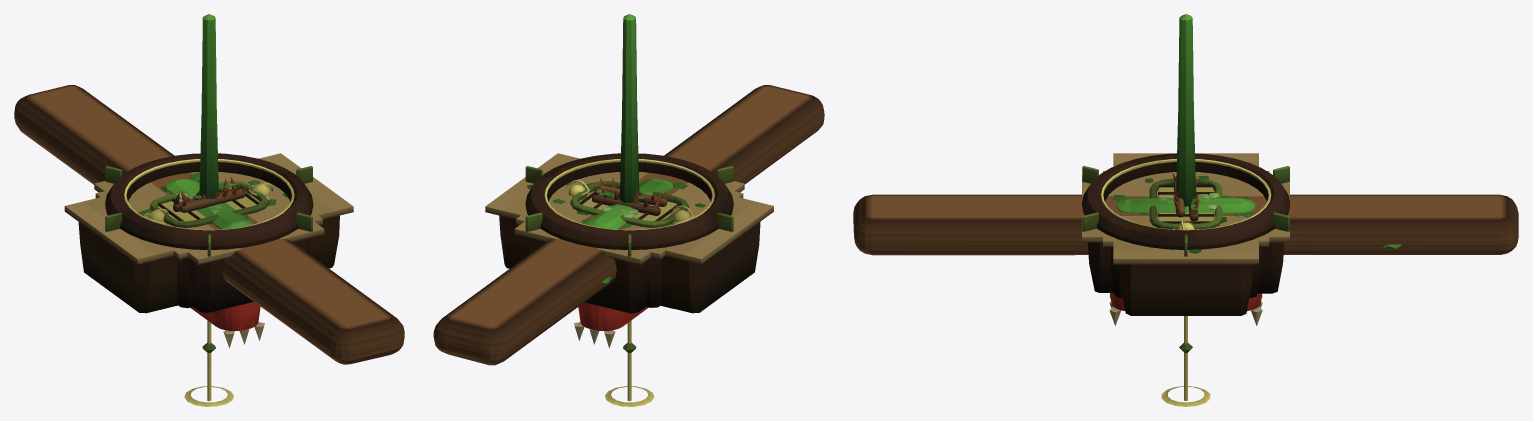
The model's file is swamp-2-DP0inCK9.glb.
3 views of the same model, side by side, from view 1: azimuth 30°, elevation 25°; view 2: azimuth 150°, elevation 25°; view 3: azimuth 270°, elevation 25° (orthographic).
Parts seen in each view (by area): view 1: beam_4x2x32#0, geyserVent_8#0, block_12x2x7#0, press_2.5x6x7.5#0, block_7x2x10#0, jetVent_5x3#0, block_8x2x8#0, burner_3.8x1.2x2#0, block_10x2x7#0, support_0_round#0, balls_7.2x1.4#0; view 2: beam_4x2x32#0, geyserVent_8#0, block_12x2x7#0, press_2.5x6x7.5#0, block_7x2x10#0, jetVent_5x3#0, block_10x2x7#0, burner_3.8x1.2x2#0, block_8x2x8#0, support_0_round#0, balls_7.2x1.4#0; view 3: beam_4x2x32#0, geyserVent_8#0, block_12x2x7#0, press_2.5x6x7.5#0, block_7x2x10#0, jetVent_5x3#0, block_8x2x8#0, support_0_round#0, block_10x2x7#0.
Boxes of the visible parts, <box> form: beam_4x2x32#0: <box>14,85,404,364</box>; geyserVent_8#0: <box>105,153,313,256</box>; block_12x2x7#0: <box>64,153,353,313</box>; press_2.5x6x7.5#0: <box>165,14,264,348</box>; block_7x2x10#0: <box>94,153,324,312</box>; jetVent_5x3#0: <box>150,181,268,227</box>; block_8x2x8#0: <box>95,172,322,308</box>; burner_3.8x1.2x2#0: <box>173,176,247,212</box>; block_10x2x7#0: <box>83,157,335,260</box>; support_0_round#0: <box>184,320,233,406</box>; balls_7.2x1.4#0: <box>144,183,273,223</box>; beam_4x2x32#0: <box>433,85,824,365</box>; geyserVent_8#0: <box>525,153,733,256</box>; block_12x2x7#0: <box>485,153,773,313</box>; press_2.5x6x7.5#0: <box>574,14,673,348</box>; block_7x2x10#0: <box>514,153,744,313</box>; jetVent_5x3#0: <box>570,181,688,227</box>; block_10x2x7#0: <box>503,157,755,308</box>; burner_3.8x1.2x2#0: <box>592,177,667,215</box>; block_8x2x8#0: <box>516,177,743,307</box>; support_0_round#0: <box>605,320,654,406</box>; balls_7.2x1.4#0: <box>565,180,694,223</box>; beam_4x2x32#0: <box>853,194,1518,255</box>; geyserVent_8#0: <box>1082,153,1289,256</box>; block_12x2x7#0: <box>1113,153,1258,315</box>; press_2.5x6x7.5#0: <box>1109,14,1262,325</box>; block_7x2x10#0: <box>1082,175,1289,293</box>; jetVent_5x3#0: <box>1149,178,1222,229</box>; block_8x2x8#0: <box>1103,171,1269,298</box>; support_0_round#0: <box>1161,316,1210,406</box>; block_10x2x7#0: <box>1113,162,1258,249</box>.
Size of the model in its own units: 12 by 20.5 by 32.02.
